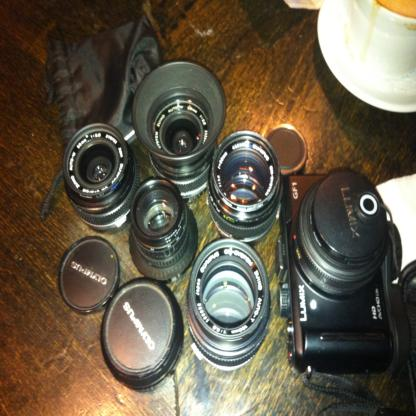Camera: (285, 177, 405, 391), (133, 60, 224, 201), (191, 240, 274, 372), (207, 133, 283, 245), (64, 123, 141, 233), (130, 181, 202, 276)
